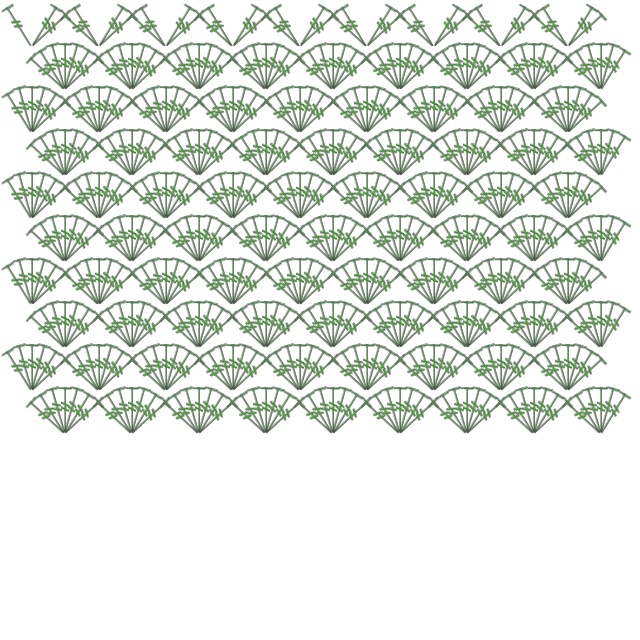fan: (27, 9, 73, 53), (58, 9, 104, 53), (94, 9, 140, 53), (125, 9, 171, 53), (161, 9, 207, 53), (192, 9, 238, 53), (228, 9, 274, 53), (259, 9, 305, 53), (295, 9, 341, 53), (326, 9, 372, 53), (362, 9, 408, 53), (393, 9, 439, 53), (429, 9, 475, 53), (460, 9, 506, 53), (496, 9, 542, 53), (527, 9, 573, 53), (563, 9, 609, 53), (24, 52, 70, 96), (60, 52, 106, 96), (91, 52, 137, 96), (127, 52, 173, 96), (158, 52, 204, 96), (194, 52, 240, 96), (225, 52, 271, 96), (261, 52, 307, 96), (292, 52, 338, 96), (328, 52, 374, 96), (359, 52, 405, 96), (395, 52, 441, 96), (426, 52, 472, 96), (462, 52, 508, 96), (493, 52, 539, 96), (529, 52, 575, 96), (560, 52, 606, 96), (27, 95, 73, 139), (58, 95, 104, 139), (94, 95, 140, 139), (125, 95, 171, 139), (161, 95, 207, 139), (192, 95, 238, 139), (228, 95, 274, 139), (259, 95, 305, 139), (295, 95, 341, 139), (326, 95, 372, 139), (362, 95, 408, 139), (393, 95, 439, 139), (429, 95, 475, 139), (460, 95, 506, 139), (496, 95, 542, 139), (527, 95, 573, 139), (563, 95, 609, 139), (24, 138, 70, 182), (60, 138, 106, 182), (91, 138, 137, 182), (127, 138, 173, 182), (158, 138, 204, 182), (194, 138, 240, 182), (225, 138, 271, 182), (261, 138, 307, 182), (292, 138, 338, 182), (328, 138, 374, 182), (359, 138, 405, 182), (395, 138, 441, 182), (426, 138, 472, 182), (462, 138, 508, 182), (493, 138, 539, 182), (529, 138, 575, 182), (560, 138, 606, 182), (27, 181, 73, 225), (58, 181, 104, 225), (94, 181, 140, 225), (125, 181, 171, 225), (161, 181, 207, 225), (192, 181, 238, 225), (228, 181, 274, 225), (259, 181, 305, 225), (295, 181, 341, 225), (326, 181, 372, 225), (362, 181, 408, 225), (393, 181, 439, 225), (429, 181, 475, 225), (460, 181, 506, 225), (496, 181, 542, 225), (527, 181, 573, 225), (563, 181, 609, 225), (24, 224, 70, 268), (60, 224, 106, 268), (91, 224, 137, 268), (127, 224, 173, 268), (158, 224, 204, 268), (194, 224, 240, 268), (225, 224, 271, 268), (261, 224, 307, 268), (292, 224, 338, 268), (328, 224, 374, 268), (359, 224, 405, 268), (395, 224, 441, 268), (426, 224, 472, 268), (462, 224, 508, 268), (493, 224, 539, 268), (529, 224, 575, 268), (560, 224, 606, 268), (27, 267, 73, 311), (58, 267, 104, 311), (94, 267, 140, 311), (125, 267, 171, 311), (161, 267, 207, 311), (192, 267, 238, 311), (228, 267, 274, 311), (259, 267, 305, 311), (295, 267, 341, 311), (326, 267, 372, 311), (362, 267, 408, 311), (393, 267, 439, 311), (429, 267, 475, 311), (460, 267, 506, 311), (496, 267, 542, 311), (527, 267, 573, 311), (563, 267, 609, 311), (24, 310, 70, 354), (60, 310, 106, 354), (91, 310, 137, 354), (127, 310, 173, 354), (158, 310, 204, 354), (194, 310, 240, 354), (225, 310, 271, 354), (261, 310, 307, 354), (292, 310, 338, 354), (328, 310, 374, 354), (359, 310, 405, 354), (395, 310, 441, 354), (426, 310, 472, 354), (462, 310, 508, 354), (493, 310, 539, 354), (529, 310, 575, 354), (560, 310, 606, 354), (27, 353, 73, 397), (58, 353, 104, 397), (94, 353, 140, 397), (125, 353, 171, 397), (161, 353, 207, 397), (192, 353, 238, 397), (228, 353, 274, 397), (259, 353, 305, 397), (295, 353, 341, 397), (326, 353, 372, 397), (362, 353, 408, 397), (393, 353, 439, 397), (429, 353, 475, 397), (460, 353, 506, 397), (496, 353, 542, 397), (527, 353, 573, 397), (563, 353, 609, 397), (24, 396, 70, 440), (60, 396, 106, 440), (91, 396, 137, 440), (127, 396, 173, 440), (158, 396, 204, 440), (194, 396, 240, 440), (225, 396, 271, 440), (261, 396, 307, 440), (292, 396, 338, 440), (328, 396, 374, 440), (359, 396, 405, 440), (395, 396, 441, 440), (426, 396, 472, 440), (462, 396, 508, 440), (493, 396, 539, 440), (529, 396, 575, 440), (560, 396, 606, 440), (0, 2, 39, 51), (25, 2, 64, 51), (67, 2, 106, 51), (92, 2, 131, 51), (134, 2, 173, 51), (159, 2, 198, 51), (201, 2, 240, 51), (226, 2, 265, 51), (268, 2, 307, 51), (293, 2, 332, 51), (335, 2, 374, 51), (360, 2, 399, 51), (402, 2, 441, 51), (427, 2, 466, 51), (469, 2, 508, 51), (494, 2, 533, 51), (536, 2, 575, 51), (561, 2, 600, 51), (33, 45, 72, 94), (58, 45, 97, 94), (100, 45, 139, 94), (125, 45, 164, 94), (167, 45, 206, 94), (192, 45, 231, 94), (234, 45, 273, 94), (259, 45, 298, 94), (301, 45, 340, 94), (326, 45, 365, 94), (368, 45, 407, 94), (393, 45, 432, 94), (435, 45, 474, 94), (460, 45, 499, 94), (502, 45, 541, 94), (527, 45, 566, 94), (569, 45, 608, 94), (594, 45, 633, 94), (0, 88, 39, 137), (25, 88, 64, 137), (67, 88, 106, 137), (92, 88, 131, 137), (134, 88, 173, 137), (159, 88, 198, 137), (201, 88, 240, 137), (226, 88, 265, 137), (268, 88, 307, 137), (293, 88, 332, 137), (335, 88, 374, 137), (360, 88, 399, 137), (402, 88, 441, 137), (427, 88, 466, 137), (469, 88, 508, 137), (494, 88, 533, 137), (536, 88, 575, 137), (561, 88, 600, 137), (33, 131, 72, 180), (58, 131, 97, 180), (100, 131, 139, 180), (125, 131, 164, 180), (167, 131, 206, 180), (192, 131, 231, 180), (234, 131, 273, 180), (259, 131, 298, 180), (301, 131, 340, 180), (326, 131, 365, 180), (368, 131, 407, 180), (393, 131, 432, 180), (435, 131, 474, 180), (460, 131, 499, 180), (502, 131, 541, 180), (527, 131, 566, 180), (569, 131, 608, 180), (594, 131, 633, 180), (0, 174, 39, 223), (25, 174, 64, 223), (67, 174, 106, 223), (92, 174, 131, 223), (134, 174, 173, 223), (159, 174, 198, 223), (201, 174, 240, 223), (226, 174, 265, 223), (268, 174, 307, 223), (293, 174, 332, 223), (335, 174, 374, 223), (360, 174, 399, 223), (402, 174, 441, 223), (427, 174, 466, 223), (469, 174, 508, 223), (494, 174, 533, 223), (536, 174, 575, 223), (561, 174, 600, 223), (33, 217, 72, 266), (58, 217, 97, 266), (100, 217, 139, 266), (125, 217, 164, 266), (167, 217, 206, 266), (192, 217, 231, 266), (234, 217, 273, 266), (259, 217, 298, 266), (301, 217, 340, 266), (326, 217, 365, 266), (368, 217, 407, 266), (393, 217, 432, 266), (435, 217, 474, 266), (460, 217, 499, 266), (502, 217, 541, 266), (527, 217, 566, 266), (569, 217, 608, 266), (594, 217, 633, 266), (0, 260, 39, 309), (25, 260, 64, 309), (67, 260, 106, 309), (92, 260, 131, 309), (134, 260, 173, 309), (159, 260, 198, 309), (201, 260, 240, 309), (226, 260, 265, 309), (268, 260, 307, 309), (293, 260, 332, 309), (335, 260, 374, 309), (360, 260, 399, 309), (402, 260, 441, 309), (427, 260, 466, 309), (469, 260, 508, 309), (494, 260, 533, 309), (536, 260, 575, 309), (561, 260, 600, 309), (33, 303, 72, 352), (58, 303, 97, 352), (100, 303, 139, 352), (125, 303, 164, 352), (167, 303, 206, 352), (192, 303, 231, 352), (234, 303, 273, 352), (259, 303, 298, 352), (301, 303, 340, 352), (326, 303, 365, 352), (368, 303, 407, 352), (393, 303, 432, 352), (435, 303, 474, 352), (460, 303, 499, 352), (502, 303, 541, 352), (527, 303, 566, 352), (569, 303, 608, 352), (594, 303, 633, 352), (0, 346, 39, 395), (25, 346, 64, 395), (67, 346, 106, 395), (92, 346, 131, 395), (134, 346, 173, 395), (159, 346, 198, 395), (201, 346, 240, 395), (226, 346, 265, 395), (268, 346, 307, 395), (293, 346, 332, 395), (335, 346, 374, 395), (360, 346, 399, 395), (402, 346, 441, 395), (427, 346, 466, 395), (469, 346, 508, 395), (494, 346, 533, 395), (536, 346, 575, 395), (561, 346, 600, 395), (33, 389, 72, 438), (58, 389, 97, 438), (100, 389, 139, 438), (125, 389, 164, 438), (167, 389, 206, 438), (192, 389, 231, 438), (234, 389, 273, 438), (259, 389, 298, 438), (301, 389, 340, 438), (326, 389, 365, 438), (368, 389, 407, 438), (393, 389, 432, 438), (435, 389, 474, 438), (460, 389, 499, 438), (502, 389, 541, 438), (527, 389, 566, 438), (569, 389, 608, 438), (594, 389, 633, 438), (44, 42, 73, 92), (57, 42, 86, 92), (111, 42, 140, 92), (124, 42, 153, 92), (178, 42, 207, 92), (191, 42, 220, 92), (245, 42, 274, 92), (258, 42, 287, 92), (312, 42, 341, 92), (325, 42, 354, 92), (379, 42, 408, 92), (392, 42, 421, 92), (446, 42, 475, 92), (459, 42, 488, 92), (513, 42, 542, 92), (526, 42, 555, 92), (580, 42, 609, 92), (593, 42, 622, 92), (11, 85, 40, 135), (24, 85, 53, 135), (78, 85, 107, 135), (91, 85, 120, 135), (145, 85, 174, 135), (158, 85, 187, 135), (212, 85, 241, 135), (225, 85, 254, 135), (279, 85, 308, 135), (292, 85, 321, 135), (346, 85, 375, 135), (359, 85, 388, 135), (413, 85, 442, 135), (426, 85, 455, 135), (480, 85, 509, 135), (493, 85, 522, 135), (547, 85, 576, 135), (560, 85, 589, 135), (44, 128, 73, 178), (57, 128, 86, 178), (111, 128, 140, 178), (124, 128, 153, 178), (178, 128, 207, 178), (191, 128, 220, 178), (245, 128, 274, 178), (258, 128, 287, 178), (312, 128, 341, 178), (325, 128, 354, 178), (379, 128, 408, 178), (392, 128, 421, 178), (446, 128, 475, 178), (459, 128, 488, 178), (513, 128, 542, 178), (526, 128, 555, 178), (580, 128, 609, 178), (593, 128, 622, 178), (11, 171, 40, 221), (24, 171, 53, 221), (78, 171, 107, 221), (91, 171, 120, 221), (145, 171, 174, 221), (158, 171, 187, 221), (212, 171, 241, 221), (225, 171, 254, 221), (279, 171, 308, 221), (292, 171, 321, 221), (346, 171, 375, 221), (359, 171, 388, 221), (413, 171, 442, 221), (426, 171, 455, 221), (480, 171, 509, 221), (493, 171, 522, 221), (547, 171, 576, 221), (560, 171, 589, 221), (44, 214, 73, 264), (57, 214, 86, 264), (111, 214, 140, 264), (124, 214, 153, 264), (178, 214, 207, 264), (191, 214, 220, 264), (245, 214, 274, 264), (258, 214, 287, 264), (312, 214, 341, 264), (325, 214, 354, 264), (379, 214, 408, 264), (392, 214, 421, 264), (446, 214, 475, 264), (459, 214, 488, 264), (513, 214, 542, 264), (526, 214, 555, 264), (580, 214, 609, 264), (593, 214, 622, 264), (11, 257, 40, 307), (24, 257, 53, 307), (78, 257, 107, 307), (91, 257, 120, 307), (145, 257, 174, 307), (158, 257, 187, 307), (212, 257, 241, 307), (225, 257, 254, 307), (279, 257, 308, 307), (292, 257, 321, 307), (346, 257, 375, 307), (359, 257, 388, 307), (413, 257, 442, 307), (426, 257, 455, 307), (480, 257, 509, 307), (493, 257, 522, 307), (547, 257, 576, 307), (560, 257, 589, 307), (44, 300, 73, 350), (57, 300, 86, 350), (111, 300, 140, 350), (124, 300, 153, 350), (178, 300, 207, 350), (191, 300, 220, 350), (245, 300, 274, 350), (258, 300, 287, 350), (312, 300, 341, 350), (325, 300, 354, 350), (379, 300, 408, 350), (392, 300, 421, 350), (446, 300, 475, 350), (459, 300, 488, 350), (513, 300, 542, 350), (526, 300, 555, 350), (580, 300, 609, 350), (593, 300, 622, 350), (11, 343, 40, 393), (24, 343, 53, 393), (78, 343, 107, 393), (91, 343, 120, 393), (145, 343, 174, 393), (158, 343, 187, 393), (212, 343, 241, 393), (225, 343, 254, 393), (279, 343, 308, 393), (292, 343, 321, 393), (346, 343, 375, 393), (359, 343, 388, 393), (413, 343, 442, 393), (426, 343, 455, 393), (480, 343, 509, 393), (493, 343, 522, 393), (547, 343, 576, 393), (560, 343, 589, 393), (44, 386, 73, 436), (57, 386, 86, 436), (111, 386, 140, 436), (124, 386, 153, 436), (178, 386, 207, 436), (191, 386, 220, 436), (245, 386, 274, 436), (258, 386, 287, 436), (312, 386, 341, 436), (325, 386, 354, 436), (379, 386, 408, 436), (392, 386, 421, 436), (446, 386, 475, 436), (459, 386, 488, 436), (513, 386, 542, 436), (526, 386, 555, 436), (580, 386, 609, 436), (593, 386, 622, 436), (57, 42, 73, 90), (124, 42, 140, 90), (191, 42, 207, 90), (258, 42, 274, 90), (325, 42, 341, 90), (392, 42, 408, 90), (459, 42, 475, 90), (526, 42, 542, 90), (593, 42, 609, 90), (24, 85, 40, 133), (91, 85, 107, 133), (158, 85, 174, 133), (225, 85, 241, 133), (292, 85, 308, 133), (359, 85, 375, 133), (426, 85, 442, 133), (493, 85, 509, 133), (560, 85, 576, 133), (57, 128, 73, 176), (124, 128, 140, 176), (191, 128, 207, 176), (258, 128, 274, 176), (325, 128, 341, 176), (392, 128, 408, 176), (459, 128, 475, 176), (526, 128, 542, 176), (593, 128, 609, 176), (24, 171, 40, 219), (91, 171, 107, 219), (158, 171, 174, 219), (225, 171, 241, 219), (292, 171, 308, 219), (359, 171, 375, 219), (426, 171, 442, 219), (493, 171, 509, 219), (560, 171, 576, 219), (57, 214, 73, 262), (124, 214, 140, 262), (191, 214, 207, 262), (258, 214, 274, 262), (325, 214, 341, 262), (392, 214, 408, 262), (459, 214, 475, 262), (526, 214, 542, 262), (593, 214, 609, 262), (24, 257, 40, 305), (91, 257, 107, 305), (158, 257, 174, 305), (225, 257, 241, 305), (292, 257, 308, 305), (359, 257, 375, 305), (426, 257, 442, 305), (493, 257, 509, 305), (560, 257, 576, 305), (57, 300, 73, 348), (124, 300, 140, 348), (191, 300, 207, 348), (258, 300, 274, 348), (325, 300, 341, 348), (392, 300, 408, 348), (459, 300, 475, 348), (526, 300, 542, 348), (593, 300, 609, 348), (24, 343, 40, 391), (91, 343, 107, 391), (158, 343, 174, 391), (225, 343, 241, 391), (292, 343, 308, 391), (359, 343, 375, 391), (426, 343, 442, 391), (493, 343, 509, 391), (560, 343, 576, 391), (57, 386, 73, 434), (124, 386, 140, 434), (191, 386, 207, 434), (258, 386, 274, 434), (325, 386, 341, 434), (392, 386, 408, 434), (459, 386, 475, 434), (526, 386, 542, 434), (593, 386, 609, 434)
